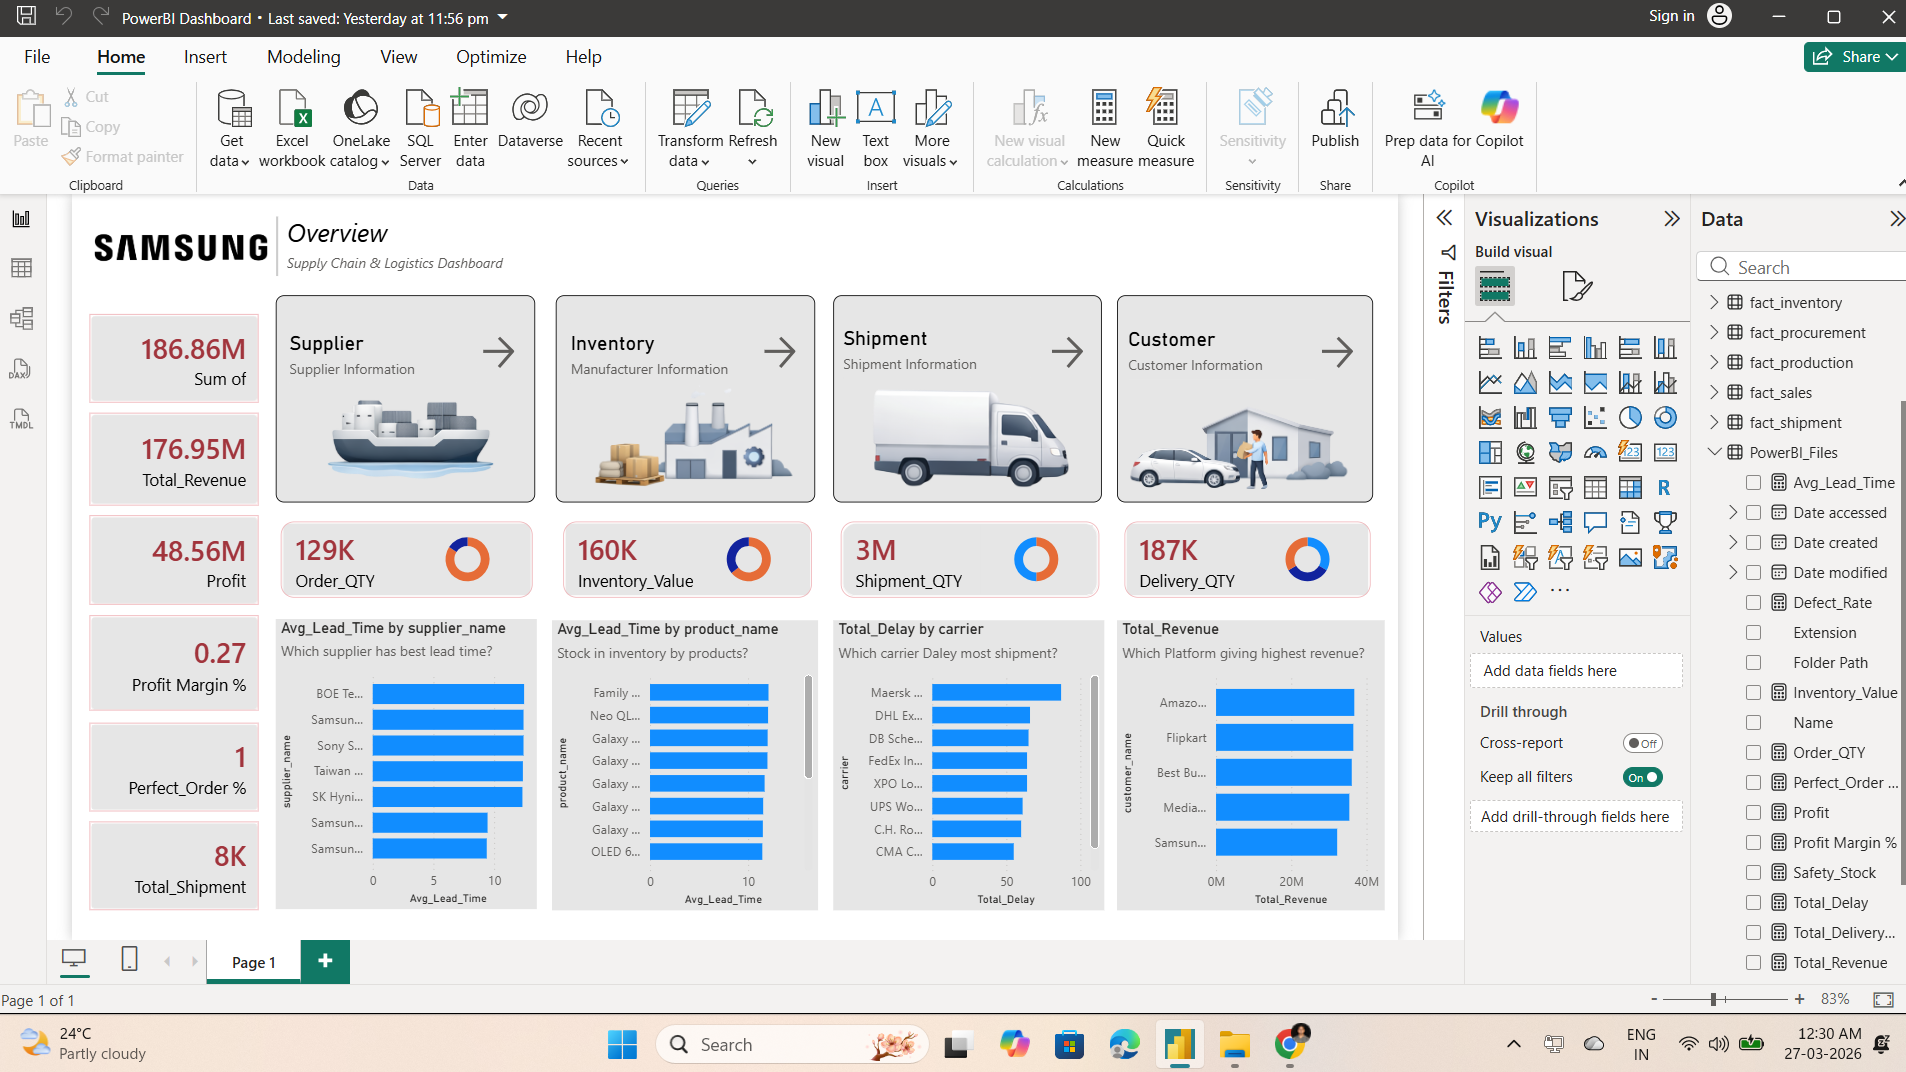

Layout of this report page (visuals, bound fields, positions):
{"tool":"powerbi","page":{"name":"Page 1","canvas":[1280,720],"ordinal":0},"visuals":[{"type":"shape","box":[196.9,97.8,250.7,200],"z":0},{"type":"shape","box":[467.1,97.8,250.7,200],"z":1000},{"type":"shape","box":[734.9,97.8,259.2,200],"z":2000},{"type":"shape","box":[1008.8,97.8,247,200],"z":3000},{"type":"actionButton","box":[391.3,133.3,44,40.4],"z":4000},{"type":"actionButton","box":[662.8,133.3,44,40.4],"z":5000},{"type":"actionButton","box":[940.4,133.3,44,40.4],"z":6000},{"type":"actionButton","box":[1200.8,133.3,44,40.4],"z":7000},{"type":"image","box":[474.5,161.4,238.5,137],"z":8000},{"type":"image","box":[739.8,159,249.5,137],"z":9000},{"type":"image","box":[1012.5,173.6,238.5,137],"z":10000},{"type":"image","box":[228.7,159,187.1,137],"z":11000},{"type":"shape","title":"Supplier","box":[210.3,133.3,181,50.1],"z":12000},{"type":"shape","title":"Inventory","box":[481.8,133.3,181,50.1],"z":13000},{"type":"shape","title":"Shipment","box":[744.7,128.4,181,50.1],"z":14000},{"type":"shape","title":"Customer","box":[1019.8,129.6,181,50.1],"z":15000},{"type":"shape","title":"Overview","box":[207.9,20.8,238.5,58.7],"z":16000},{"type":"image","box":[8.6,18.3,185.9,66],"z":17000},{"type":"shape","box":[188.3,22,19.6,57.5],"z":18000},{"type":"cardVisual","fields":{"Data":["PowerBI_Files.Total_Revenue"]},"box":[12.2,206.7,173.6,99],"z":19000},{"type":"cardVisual","fields":{"Data":["Sum(fact_sales.gross_revenue)"]},"box":[12.2,111.3,173.6,95.4],"z":20000},{"type":"cardVisual","fields":{"Data":["PowerBI_Files.Profit"]},"box":[12.2,305.7,173.6,96.6],"z":21000},{"type":"cardVisual","fields":{"Data":["PowerBI_Files.Profit Margin %"]},"box":[12.2,402.3,173.6,102.7],"z":22000},{"type":"cardVisual","fields":{"Data":["PowerBI_Files.Perfect_Order %"]},"box":[12.2,505,173.6,95.4],"z":23000},{"type":"cardVisual","fields":{"Data":["PowerBI_Files.Total_Shipment"]},"box":[12.2,600.4,173.6,95.4],"z":24000},{"type":"cardVisual","fields":{"Data":["PowerBI_Files.Order_QTY"]},"box":[196.4,311.1,253.1,83.2],"z":25000},{"type":"cardVisual","fields":{"Data":["PowerBI_Files.Inventory_Value"]},"box":[469.1,311.1,250.7,83.2],"z":26000},{"type":"cardVisual","fields":{"Data":["PowerBI_Files.Total_Shipment_Quantity"]},"box":[736.9,311.1,259.2,83.2],"z":27000},{"type":"cardVisual","fields":{"Data":["PowerBI_Files.Total_Delivery_Quantity"]},"box":[1010.8,311.1,247,83.2],"z":28000},{"type":"clusteredBarChart","fields":{"Y":["PowerBI_Files.Avg_Lead_Time"],"Category":["dim_supplier.supplier_name"]},"box":[196.4,410.4,251.9,280],"z":29000},{"type":"clusteredBarChart","fields":{"Y":["PowerBI_Files.Avg_Lead_Time"],"Category":["dim_product.product_name"]},"box":[463.5,410.9,256.8,280],"z":30000},{"type":"clusteredBarChart","fields":{"Y":["PowerBI_Files.Total_Delay"],"Category":["fact_shipment.carrier"]},"box":[734.9,410.9,261.7,280],"z":31000},{"type":"clusteredBarChart","title":"Total_Revenue","fields":{"Category":["dim_customer.customer_name"],"Y":["PowerBI_Files.Total_Revenue"]},"box":[1008.8,410.9,258,280],"z":32000},{"type":"donutChart","fields":{"Y":["PowerBI_Files.Order_QTY","PowerBI_Files.Defect_Rate"]},"box":[327.7,319.2,107.6,66],"z":33000},{"type":"donutChart","fields":{"Y":["PowerBI_Files.Inventory_Value","PowerBI_Files.Safety_Stock"]},"box":[599.2,319.2,107.6,66],"z":34000},{"type":"donutChart","fields":{"Y":["PowerBI_Files.Total_Delay"],"Category":["dim_supplier.tier"]},"box":[876.8,319.2,107.6,66],"z":35000},{"type":"donutChart","fields":{"Y":["CountNonNull(dim_supplier.tier)"],"Category":["fact_inventory.facility_id"]},"box":[1138.5,319.2,107.6,66],"z":36000}]}

Visuals, with their boxes on the page's 1280x720 design canvas (x1, y1, x2, y2). These are canvas units, not pixel positions in the 1906x1072 screenshot, which may show the page scaled, cropped or inside an application window:
shape: bbox=[197, 98, 448, 298]
shape: bbox=[467, 98, 718, 298]
shape: bbox=[735, 98, 994, 298]
shape: bbox=[1009, 98, 1256, 298]
actionButton: bbox=[391, 133, 435, 174]
actionButton: bbox=[663, 133, 707, 174]
actionButton: bbox=[940, 133, 984, 174]
actionButton: bbox=[1201, 133, 1245, 174]
image: bbox=[474, 161, 713, 298]
image: bbox=[740, 159, 989, 296]
image: bbox=[1012, 174, 1251, 311]
image: bbox=[229, 159, 416, 296]
"Supplier" shape: bbox=[210, 133, 391, 183]
"Inventory" shape: bbox=[482, 133, 663, 183]
"Shipment" shape: bbox=[745, 128, 926, 178]
"Customer" shape: bbox=[1020, 130, 1201, 180]
"Overview" shape: bbox=[208, 21, 446, 80]
image: bbox=[9, 18, 194, 84]
shape: bbox=[188, 22, 208, 80]
cardVisual - PowerBI_Files.Total_Revenue: bbox=[12, 207, 186, 306]
cardVisual - Sum(fact_sales.gross_revenue): bbox=[12, 111, 186, 207]
cardVisual - PowerBI_Files.Profit: bbox=[12, 306, 186, 402]
cardVisual - PowerBI_Files.Profit Margin %: bbox=[12, 402, 186, 505]
cardVisual - PowerBI_Files.Perfect_Order %: bbox=[12, 505, 186, 600]
cardVisual - PowerBI_Files.Total_Shipment: bbox=[12, 600, 186, 696]
cardVisual - PowerBI_Files.Order_QTY: bbox=[196, 311, 450, 394]
cardVisual - PowerBI_Files.Inventory_Value: bbox=[469, 311, 720, 394]
cardVisual - PowerBI_Files.Total_Shipment_Quantity: bbox=[737, 311, 996, 394]
cardVisual - PowerBI_Files.Total_Delivery_Quantity: bbox=[1011, 311, 1258, 394]
clusteredBarChart - PowerBI_Files.Avg_Lead_Time x dim_supplier.supplier_name: bbox=[196, 410, 448, 690]
clusteredBarChart - PowerBI_Files.Avg_Lead_Time x dim_product.product_name: bbox=[464, 411, 720, 691]
clusteredBarChart - PowerBI_Files.Total_Delay x fact_shipment.carrier: bbox=[735, 411, 997, 691]
"Total_Revenue" clusteredBarChart: bbox=[1009, 411, 1267, 691]
donutChart - PowerBI_Files.Order_QTY x PowerBI_Files.Defect_Rate: bbox=[328, 319, 435, 385]
donutChart - PowerBI_Files.Inventory_Value x PowerBI_Files.Safety_Stock: bbox=[599, 319, 707, 385]
donutChart - PowerBI_Files.Total_Delay x dim_supplier.tier: bbox=[877, 319, 984, 385]
donutChart - CountNonNull(dim_supplier.tier) x fact_inventory.facility_id: bbox=[1138, 319, 1246, 385]
